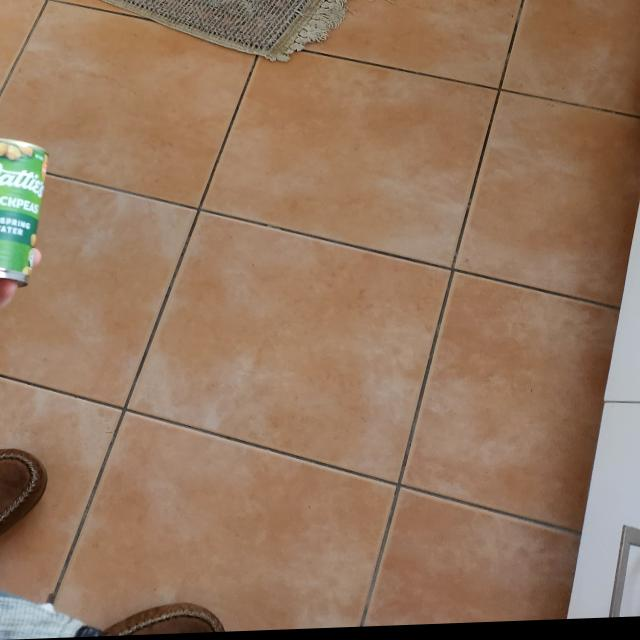chickpeas: (0, 133, 51, 286)
